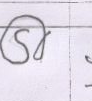i_matra: (25, 13, 50, 60)
